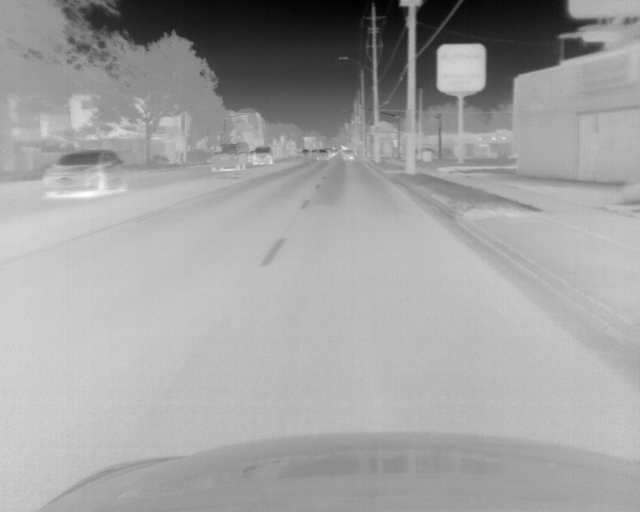car: (41, 151, 128, 199), (208, 141, 251, 172), (253, 146, 274, 166), (341, 148, 355, 161), (318, 149, 330, 160), (300, 148, 310, 158), (330, 148, 338, 158)
